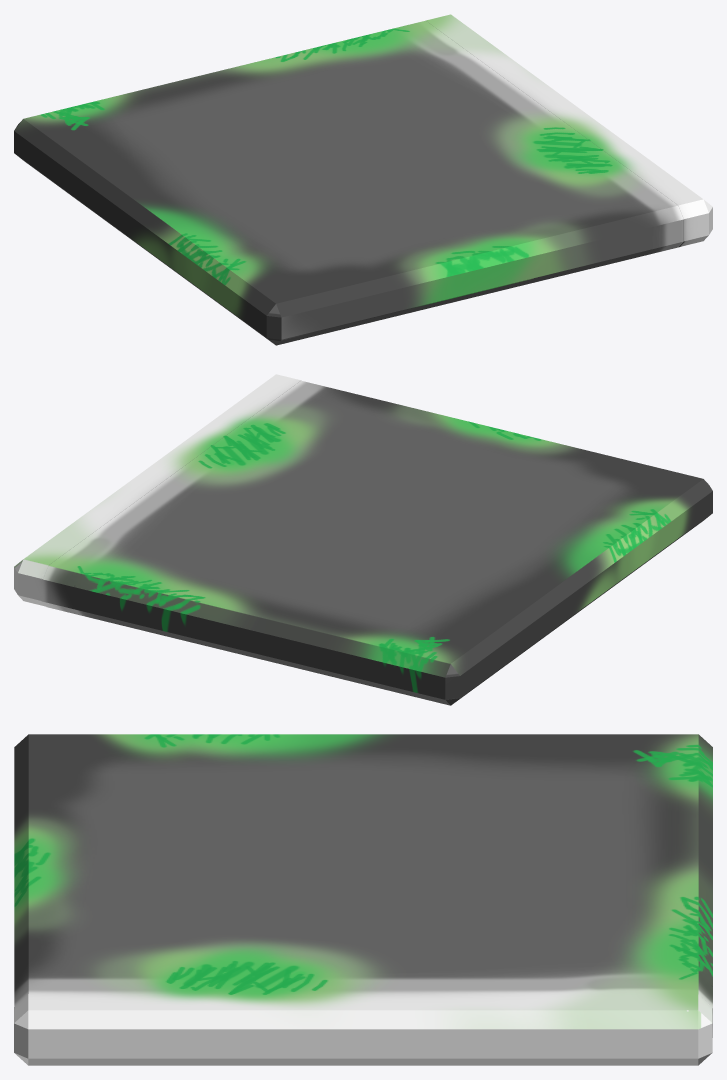
The model's file is calcadatextura3.fbx.
3 renders of one model, top to bottom at view 1: azimuth 30°, elevation 25°; view 2: azimuth 150°, elevation 25°; view 3: azimuth 270°, elevation 25°, orthographic. The views are drawn at different scales.
Visible parts, largest first — view 1: Cube; view 2: Cube; view 3: Cube.
Boxes of the visible parts, <box> form: Cube: <box>14,14,712,345</box>; Cube: <box>14,374,712,705</box>; Cube: <box>14,734,712,1065</box>.
Bounding box in the file's own units: 474 × 42.74 × 485.
